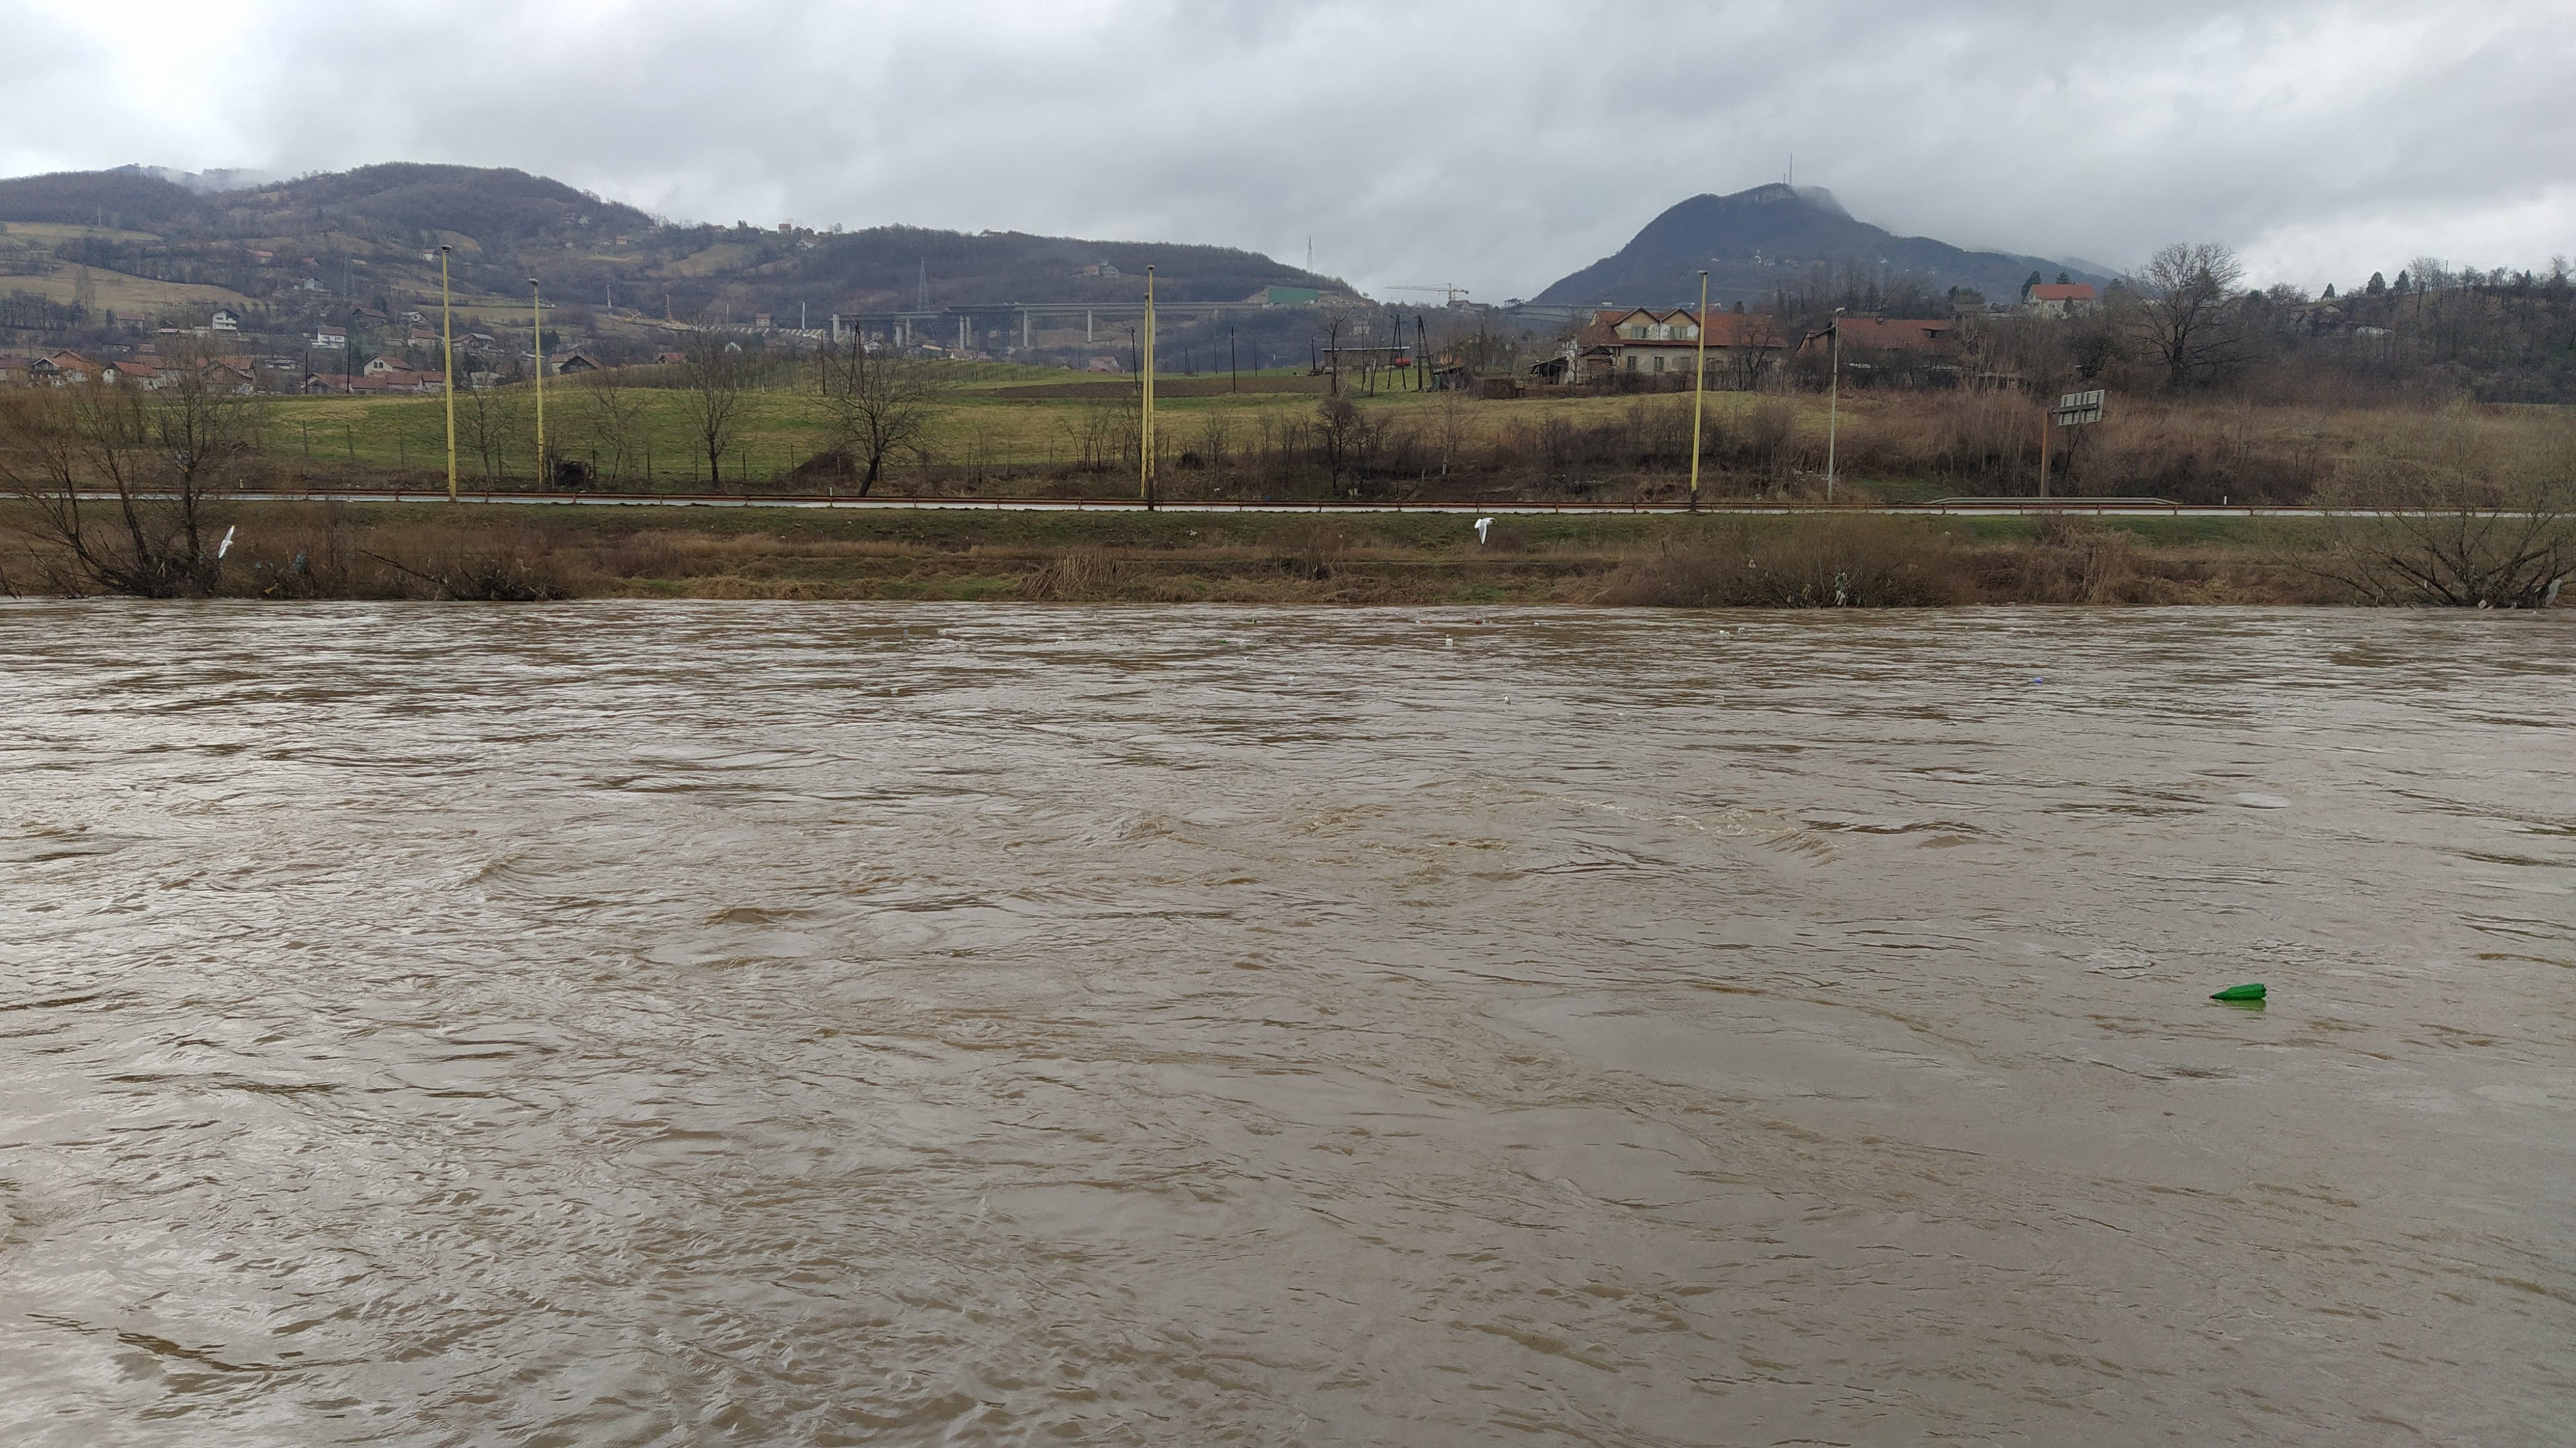Plastic Bottle: (2210, 982, 2266, 1000), (2028, 676, 2043, 683), (1504, 694, 1509, 701), (1714, 694, 1723, 697), (902, 630, 908, 634), (1221, 639, 1224, 644), (1447, 639, 1453, 643), (1476, 620, 1481, 623), (1247, 618, 1253, 620)
